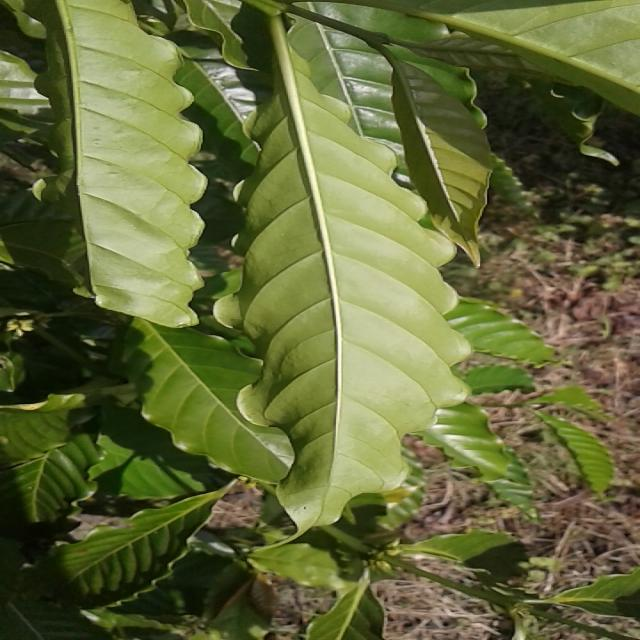Sanas: (225, 5, 472, 534)
